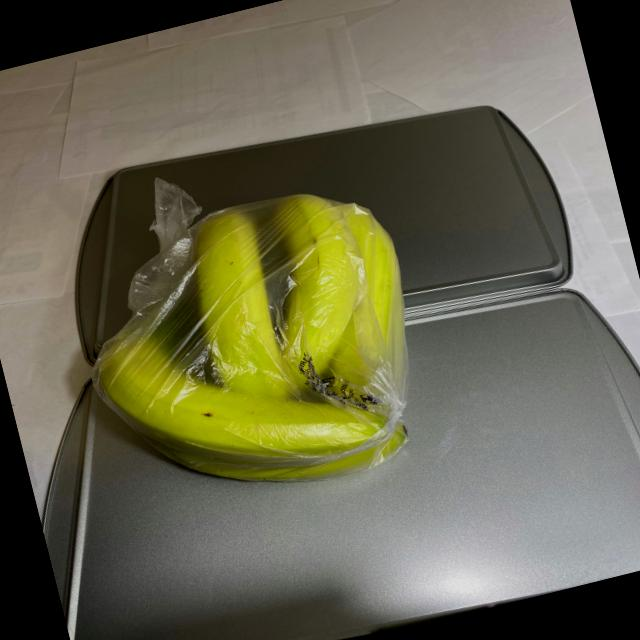banana: (56, 165, 448, 530)
